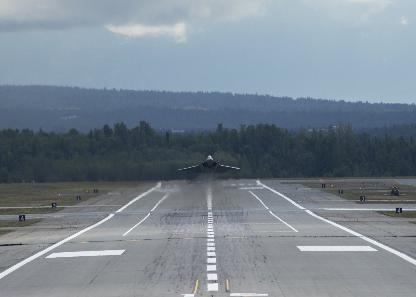F18: (176, 154, 238, 173)
